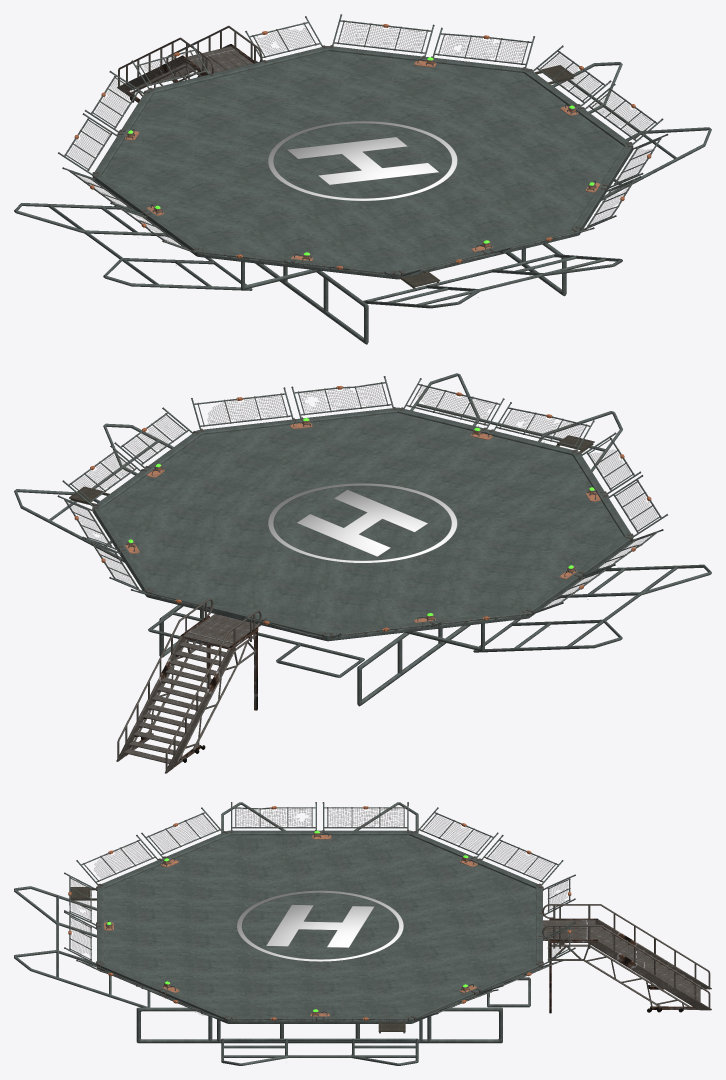
The model's file is helipad.glb.
3 renders of one model, top to bottom at view 1: azimuth 30°, elevation 25°; view 2: azimuth 150°, elevation 25°; view 3: azimuth 270°, elevation 25°, orthographic. The views are drawn at different scales.
Parts seen in each view (by area): view 1: Helipad; view 2: Helipad; view 3: Helipad.
Boxes of the visible parts, <box> form: Helipad: <box>14,14,711,344</box>; Helipad: <box>14,373,711,773</box>; Helipad: <box>14,802,711,1065</box>.
Size of the model in its own units: 32.18 by 5.29 by 36.25.
Materials: 7 (6 with a texture image).
